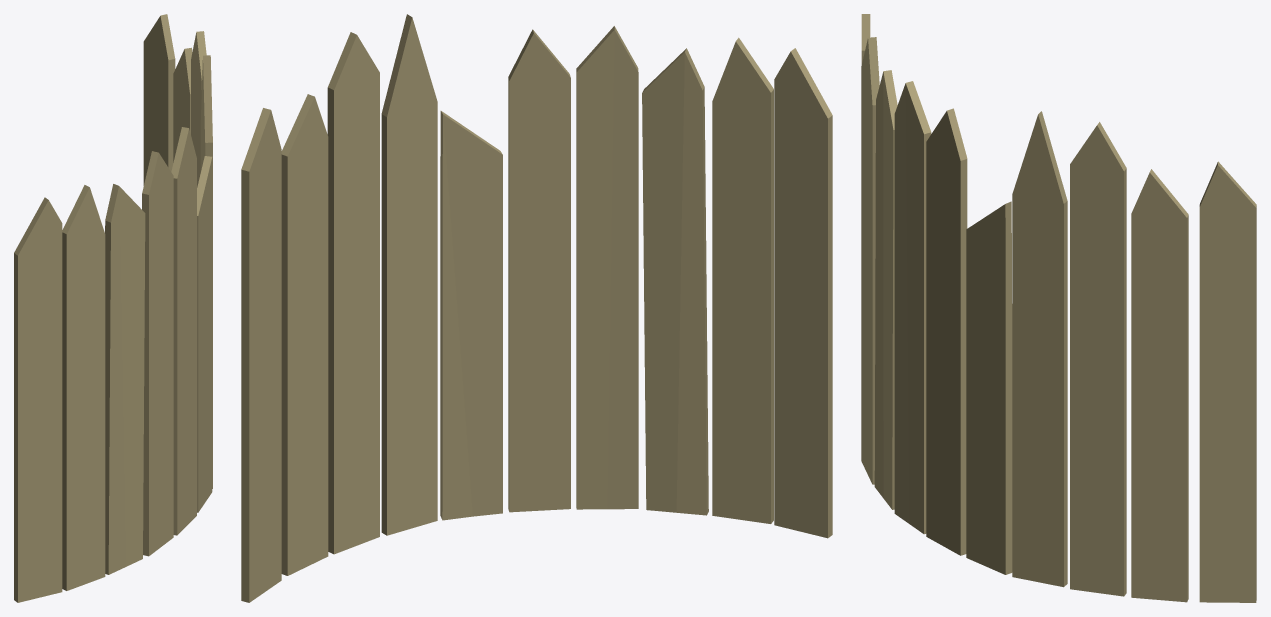
File: FenceTurn.fbx
3 renders of one model, left to right at view 1: azimuth 30°, elevation 25°; view 2: azimuth 150°, elevation 25°; view 3: azimuth 270°, elevation 25°, orthographic. The views are drawn at different scales.
Visible parts, largest first — view 1: Cube.054; view 2: Cube.054; view 3: Cube.054.
Boxes of the visible parts, x1=… form: Cube.054: x1=14, y1=14, x2=212, y2=602; Cube.054: x1=241, y1=14, x2=832, y2=602; Cube.054: x1=861, y1=14, x2=1256, y2=602.
Bounding box in the file's own units: 142 × 184 × 141.
1 material, 1 textured.
